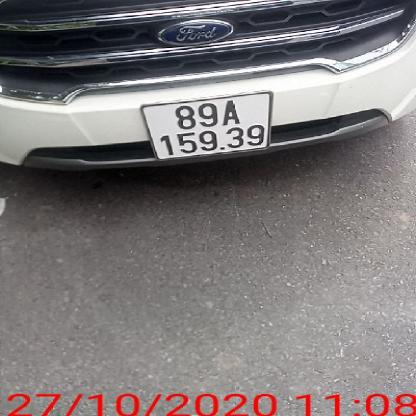biensoxe: (133, 89, 274, 159)
